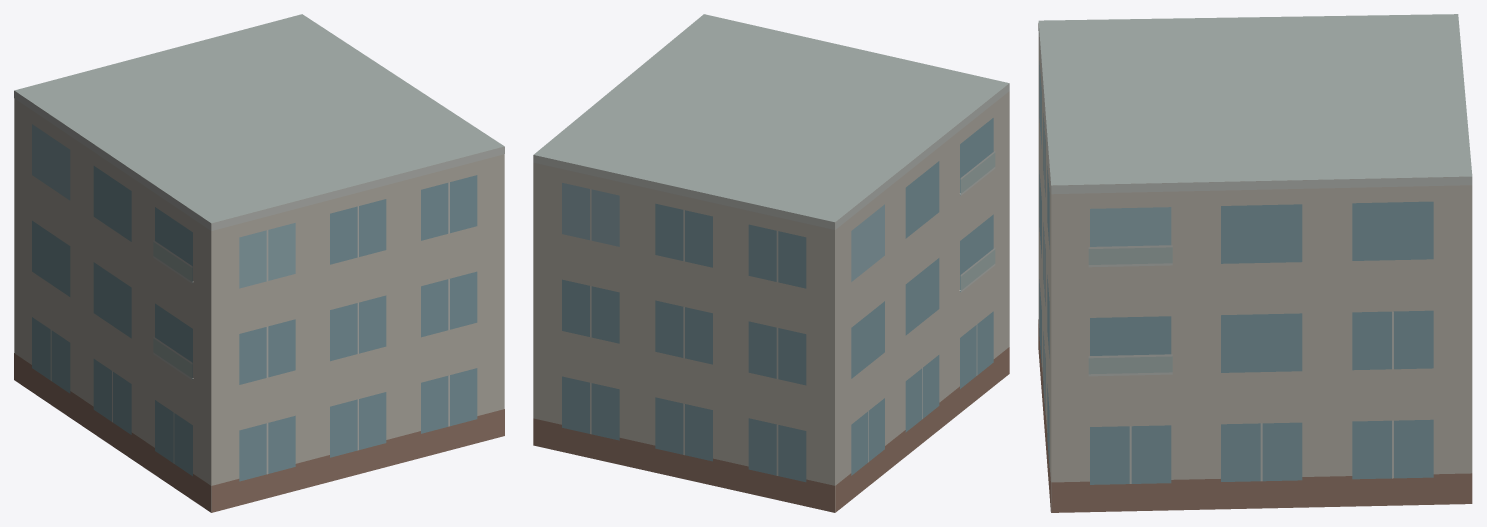
File: survey-upis-32969143.glb
3 views of the same model, side by side, from view 1: azimuth 30°, elevation 25°; view 2: azimuth 150°, elevation 25°; view 3: azimuth 270°, elevation 25° (orthographic). The views are drawn at different scales.
Parts seen in each view (by area): view 1: survey-upis-32969143.tmp; view 2: survey-upis-32969143.tmp; view 3: survey-upis-32969143.tmp.
Part boxes in pixels (box(x1,y1,x2,y2)): survey-upis-32969143.tmp: box(14, 14, 504, 512); survey-upis-32969143.tmp: box(533, 14, 1009, 512); survey-upis-32969143.tmp: box(1038, 14, 1472, 512).
Size of the model in its own units: 10.29 by 9.15 by 11.
